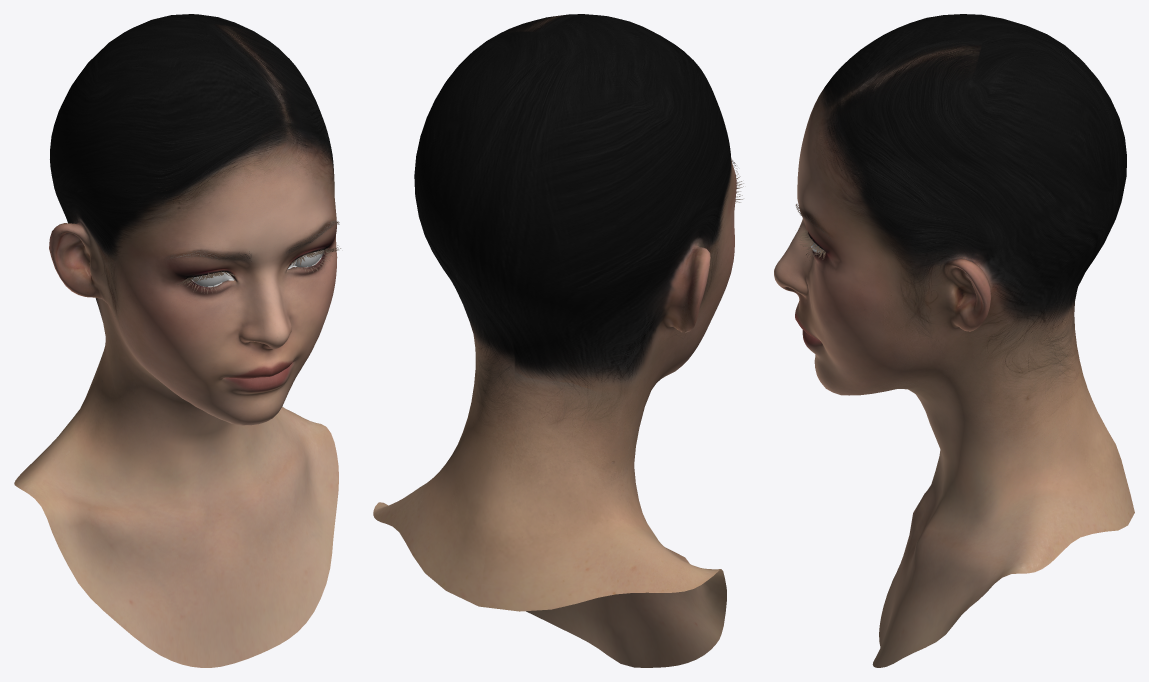
Rendered from cha200_10_lod0.obj.
3 views of the same model, side by side, from view 1: azimuth 30°, elevation 25°; view 2: azimuth 150°, elevation 25°; view 3: azimuth 270°, elevation 25° (orthographic). The views are drawn at different scales.
Parts seen in each view (by area): view 1: Face_mat, EyeLash_mat, Ao_mat, Blow_mat; view 2: Face_mat; view 3: Face_mat.
Boxes of the visible parts, left/top/right/bottom form: Face_mat: left=14, top=14, right=338, bottom=667; EyeLash_mat: left=177, top=245, right=340, bottom=293; Ao_mat: left=192, top=250, right=323, bottom=286; Blow_mat: left=164, top=220, right=339, bottom=261; Face_mat: left=373, top=14, right=736, bottom=667; Face_mat: left=774, top=14, right=1134, bottom=667.
Bounding box in the file's own units: 0.2046 × 0.3856 × 0.2009.
